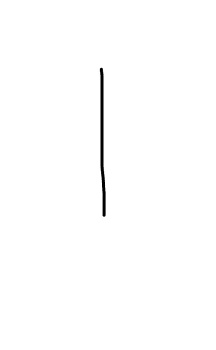Line: (95, 66, 114, 220)
